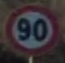limite 90: (5, 5, 59, 57)
